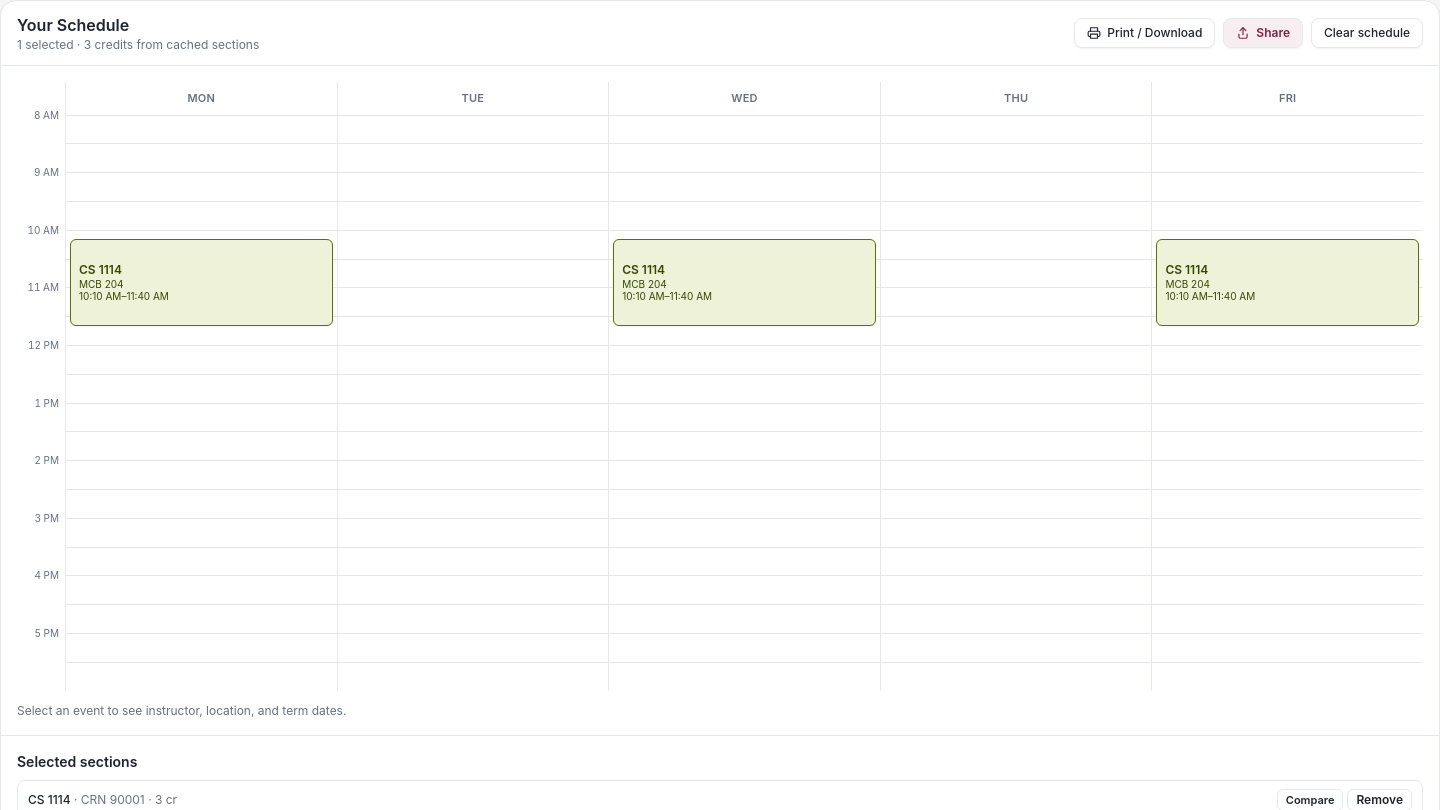
Test case: WeeklyCalendar event details › exposes instructor, location, and dates on keyboard focus
The width and height of the screenshot is (1440, 810).
Focus the 1st button "CS 1114 MCB 204 10:10 AM–11:40 AM": (100, 269) left=70, top=239, right=333, bottom=326
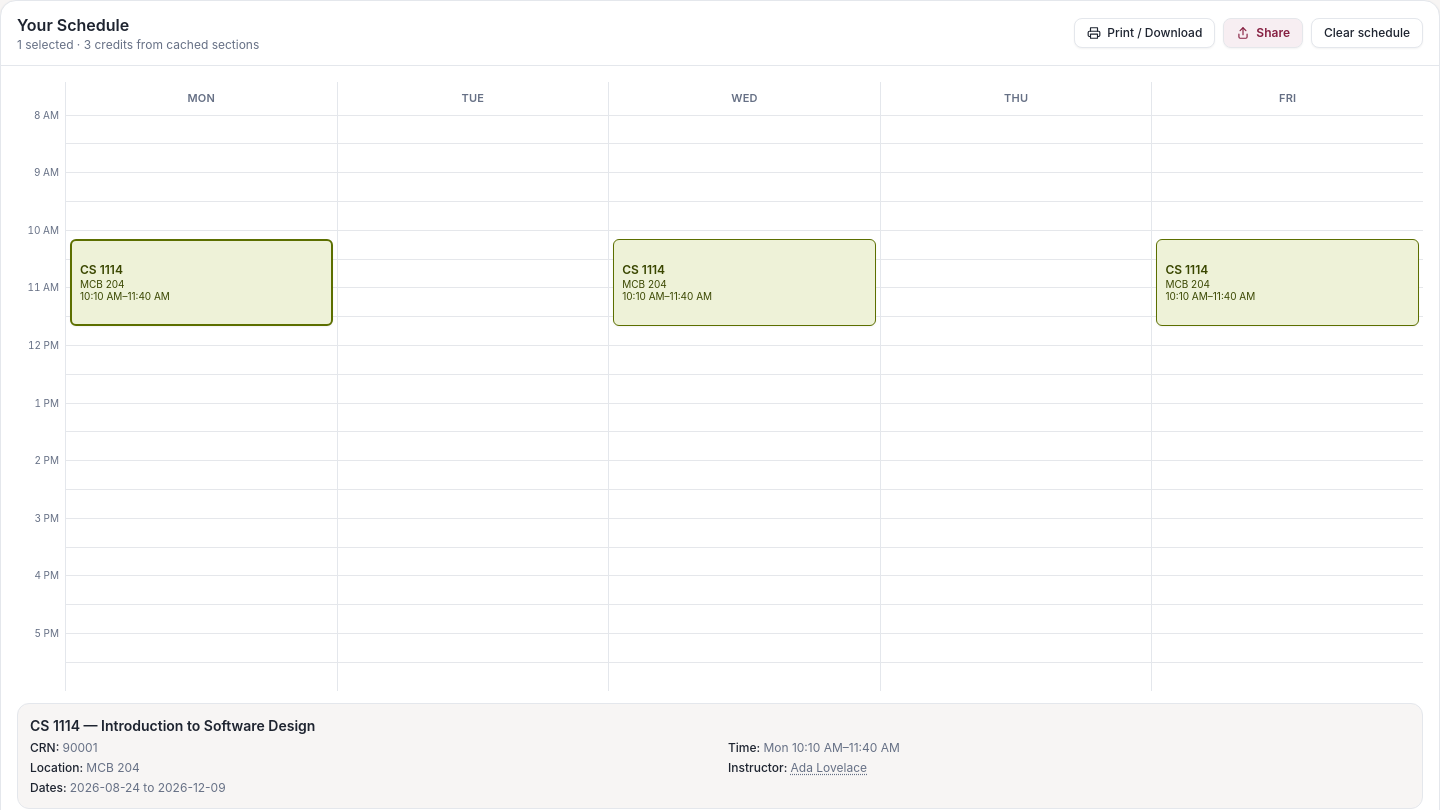
Check: the element with test id "event-details" shows "Ada Lovelace", box left=790, top=760, right=867, bottom=776
Check: the element with test id "event-details" shows "MCB 204", box left=86, top=760, right=140, bottom=774
Check: the element with test id "event-details" shows "2026-08-24", box left=70, top=780, right=140, bottom=794
